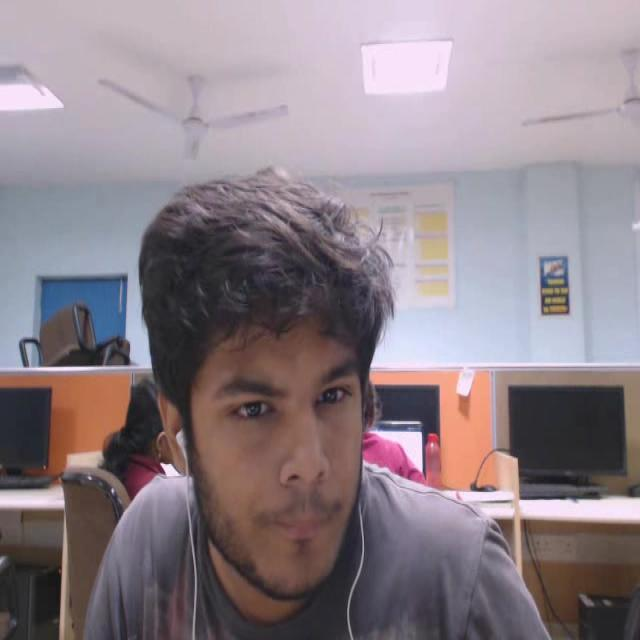Engaged: (108, 164, 430, 605)
